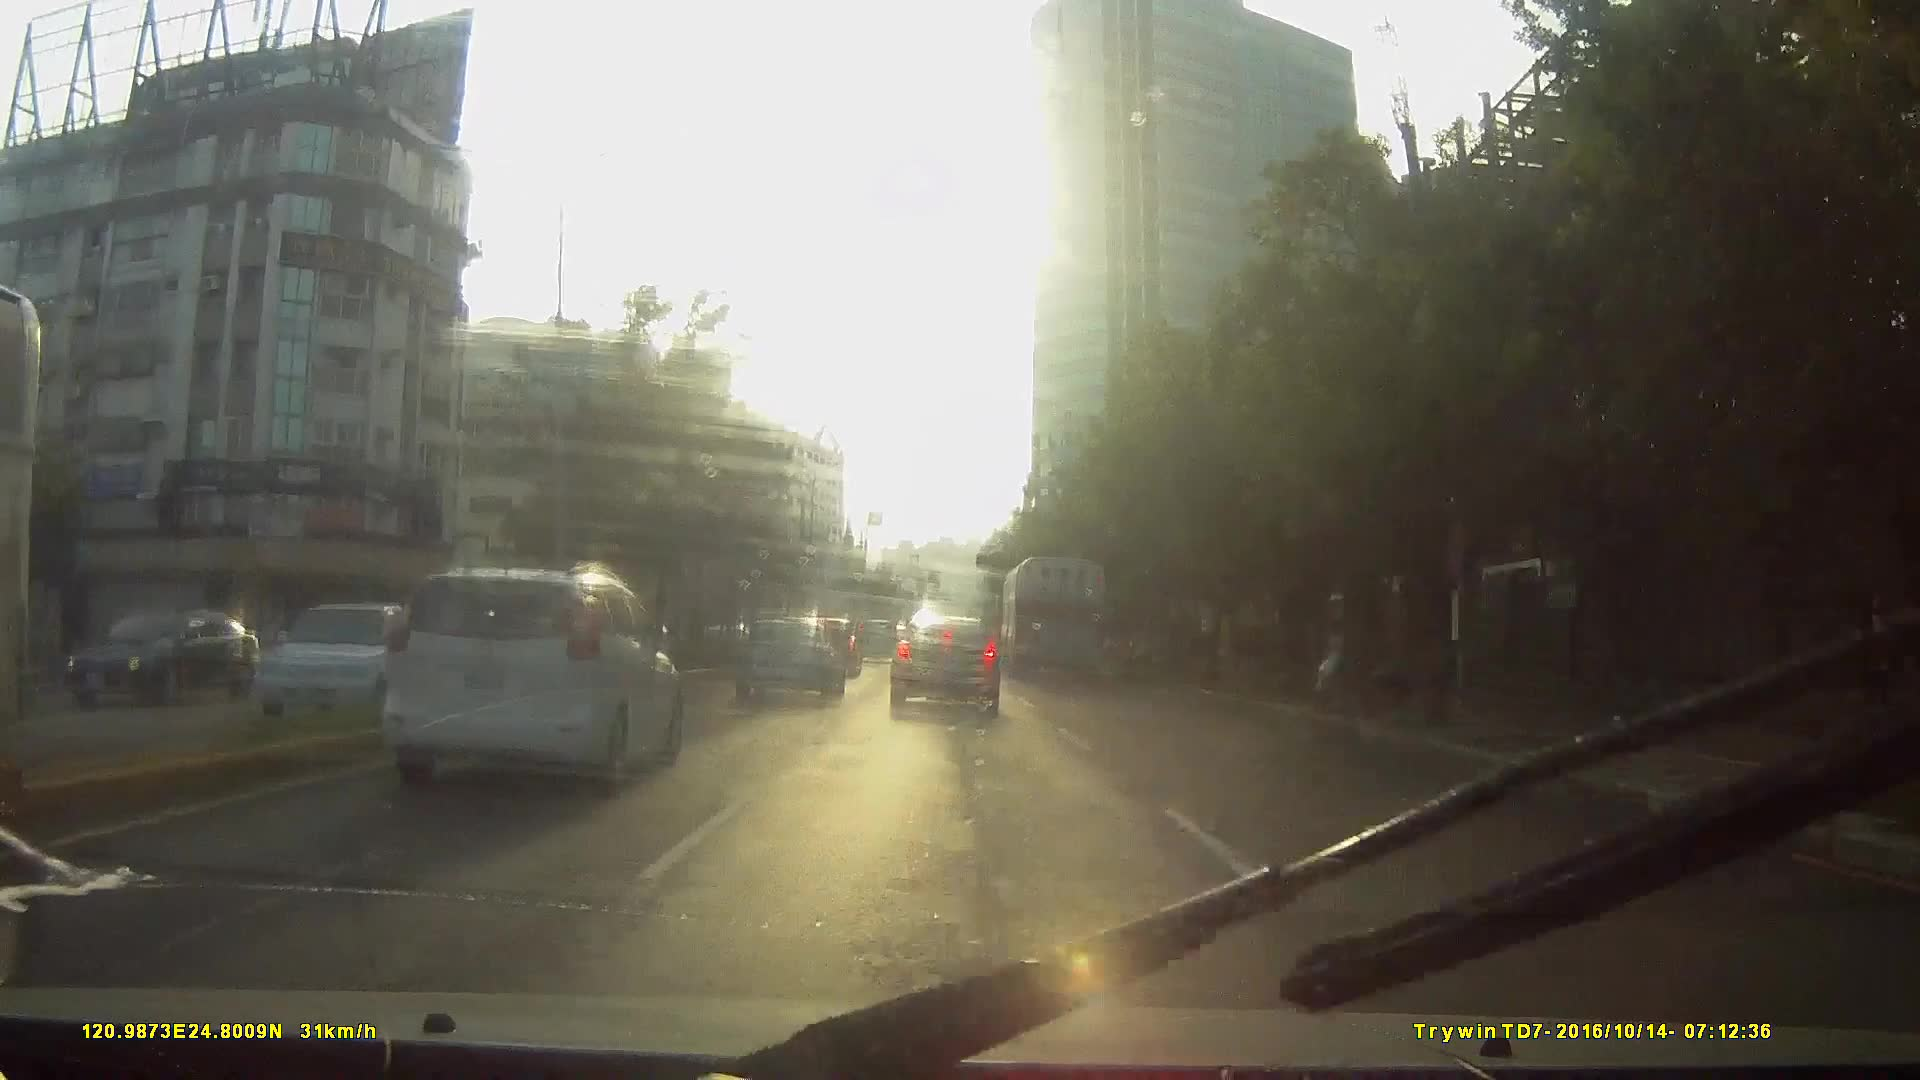vehicle: (251, 556, 684, 868), (376, 558, 680, 786), (240, 595, 450, 735), (54, 611, 252, 709), (1000, 553, 1108, 682), (885, 609, 1000, 713), (728, 612, 841, 699), (851, 615, 899, 663)
